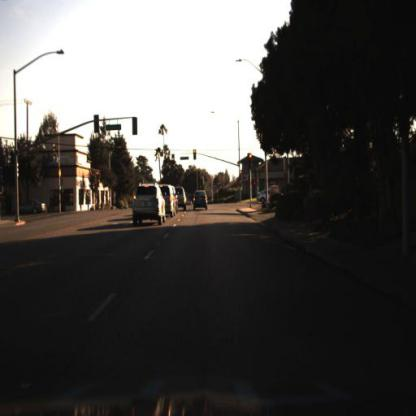car: (126, 178, 164, 227), (190, 185, 211, 214), (160, 181, 174, 215), (176, 184, 186, 214)
trafficLight-Red: (245, 151, 253, 168), (192, 149, 199, 161)
trafficLight-RedLeft: (171, 148, 178, 165)
